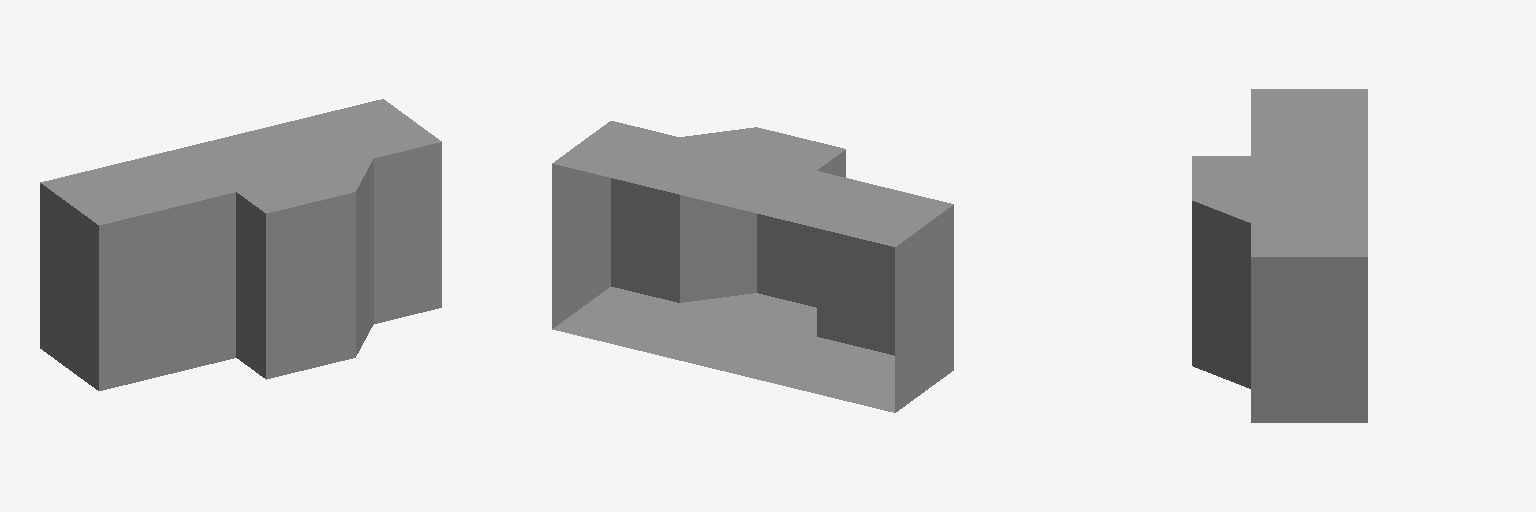
Rendered from red.obj.
The picture shows the model from 3 angles: view 1: azimuth 30°, elevation 25°; view 2: azimuth 150°, elevation 25°; view 3: azimuth 270°, elevation 25°; orthographic projection.
Visible parts, largest first — view 1: Cube.001_Cube.004; view 2: Cube.001_Cube.004; view 3: Cube.001_Cube.004.
Part boxes in pixels (x1,y1,x2,y2): Cube.001_Cube.004: (40,99,441,390); Cube.001_Cube.004: (552,121,953,412); Cube.001_Cube.004: (1192,89,1367,422).
Size of the model in its own units: 8.02 by 3.7 by 3.58.